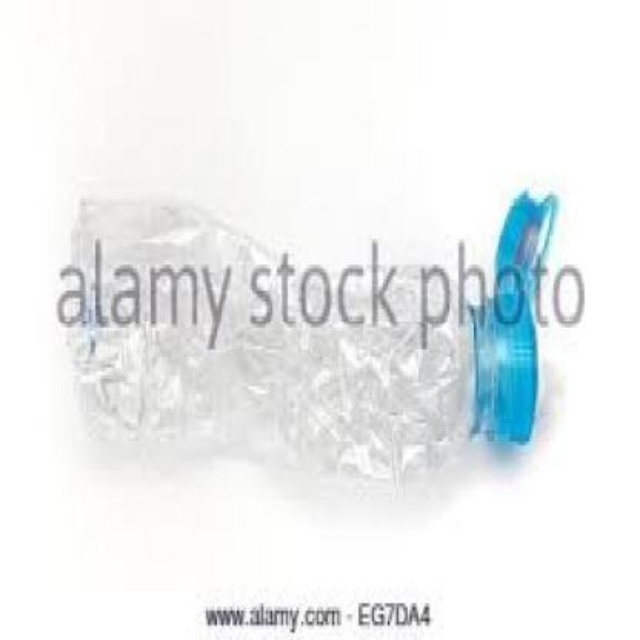trash: (57, 192, 583, 495), (471, 192, 557, 442)
